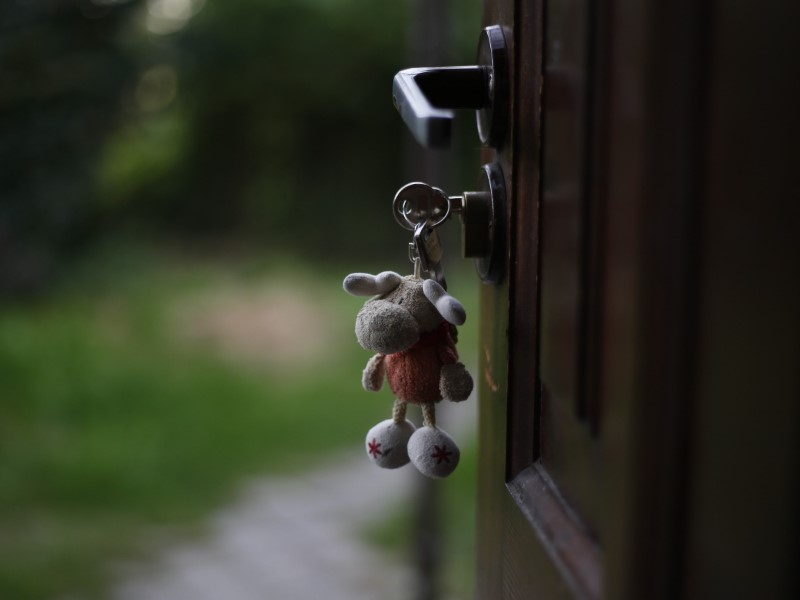key: (404, 218, 447, 294)
